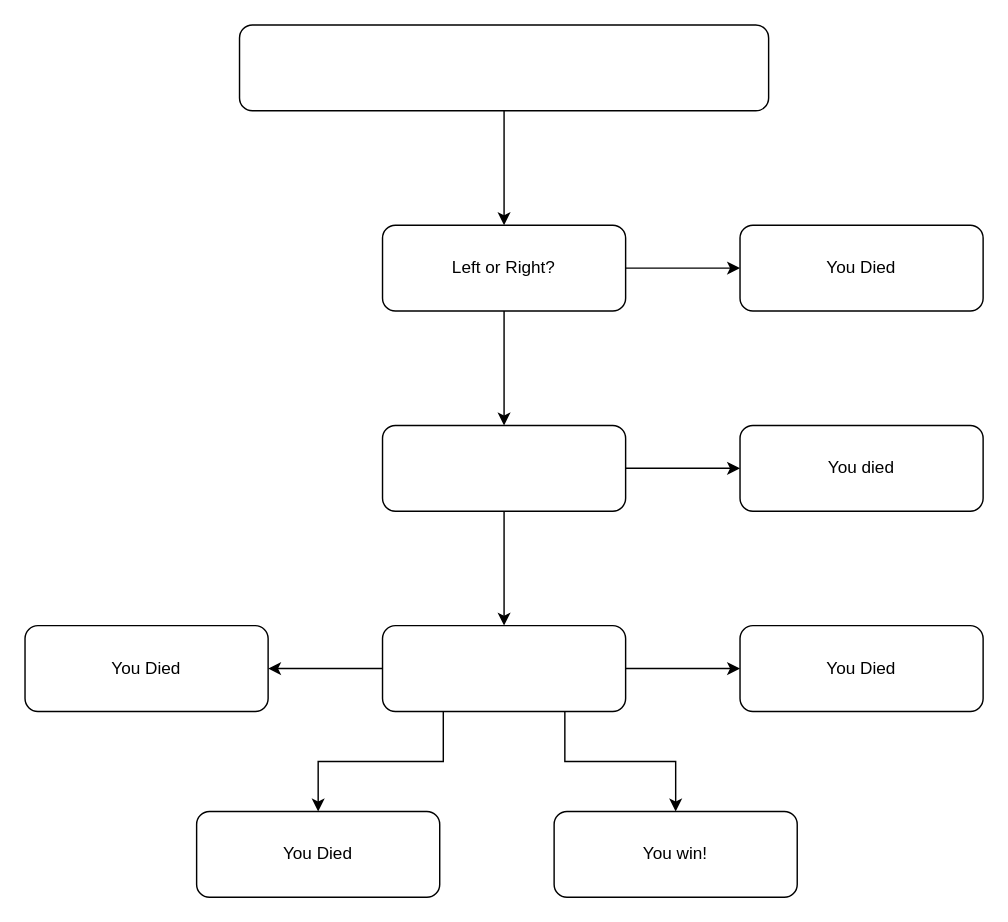
This 1008x922 diagram has some shape labels left out. Here are the shapes that lost their labels. From the top down, the centre of each, then its label:
(x=503, y=67): Welcome to bitcoin treasure jungle
(x=503, y=467): Swim or jump?
(x=503, y=667): Which door?
